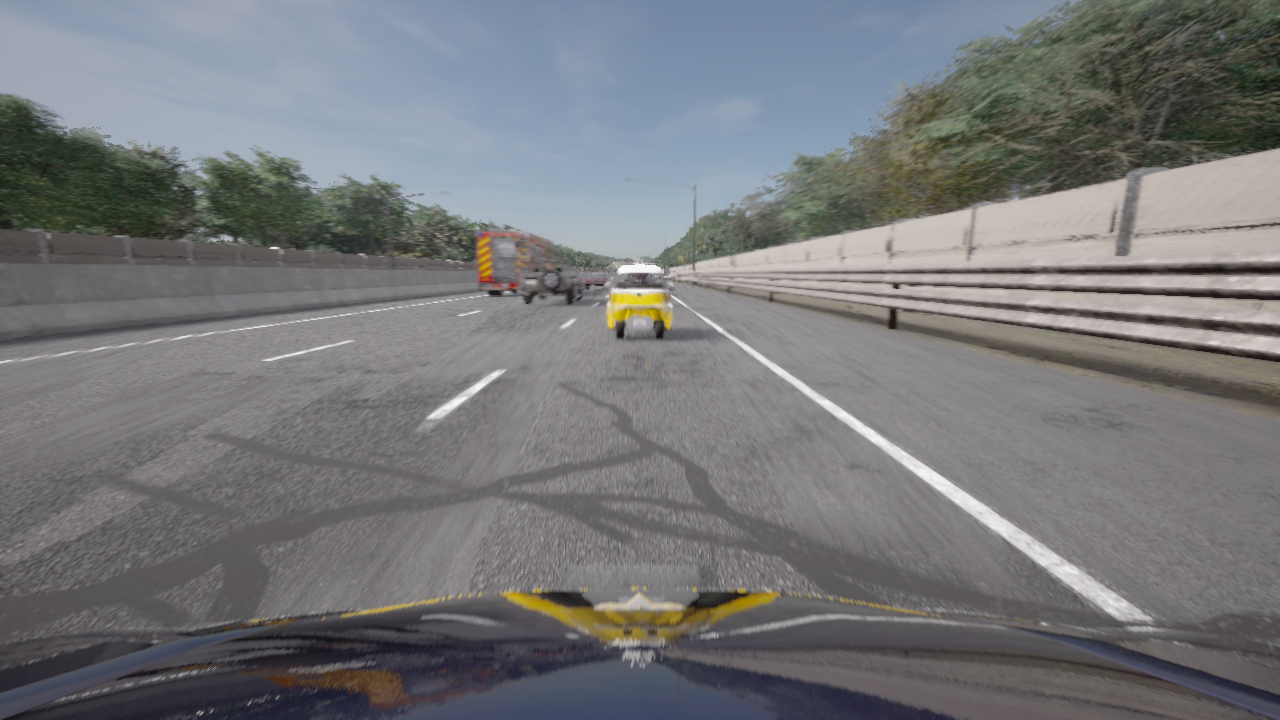cyclist: (0, 588, 1279, 719), (477, 222, 560, 295), (605, 265, 674, 339), (520, 257, 583, 304), (583, 272, 607, 289)
